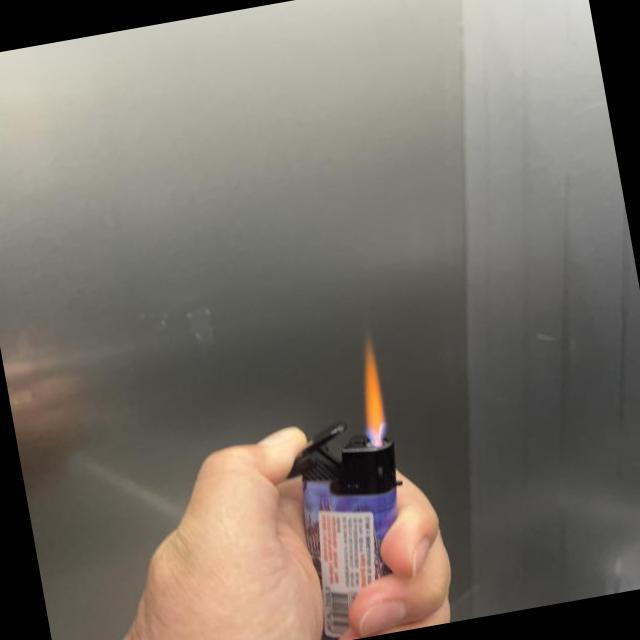Fire: (346, 336, 394, 445)
